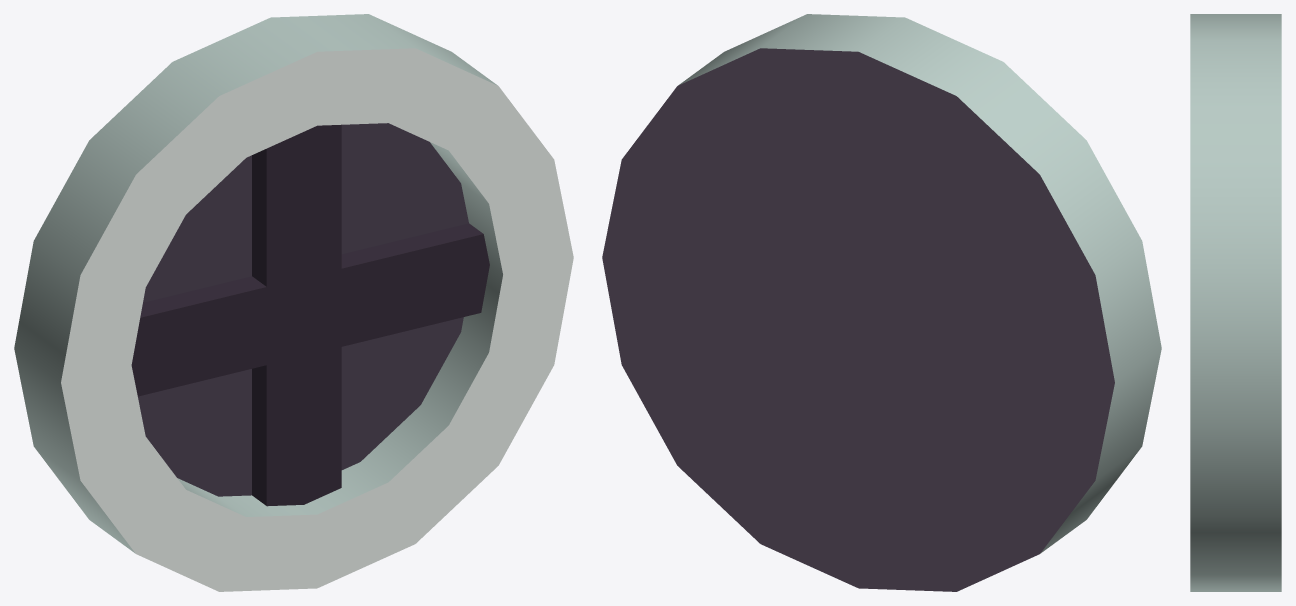
Rendered from SmallWindow02_White_Black.glb.
The picture shows the model from 3 angles, left to right: view 1: azimuth 30°, elevation 25°; view 2: azimuth 150°, elevation 25°; view 3: azimuth 270°, elevation 25°; orthographic projection. The views are drawn at different scales.
Visible parts, largest first — view 1: SmallWindow02_White_Black; view 2: SmallWindow02_White_Black; view 3: SmallWindow02_White_Black.
Boxes of the visible parts, bbox=[...] form: SmallWindow02_White_Black: bbox=[14, 14, 573, 591]; SmallWindow02_White_Black: bbox=[602, 14, 1161, 591]; SmallWindow02_White_Black: bbox=[1190, 14, 1281, 591].
Bounding box in the file's own units: 0.5633 × 0.5633 × 0.089.
Materials: 1 (1 with a texture image).
